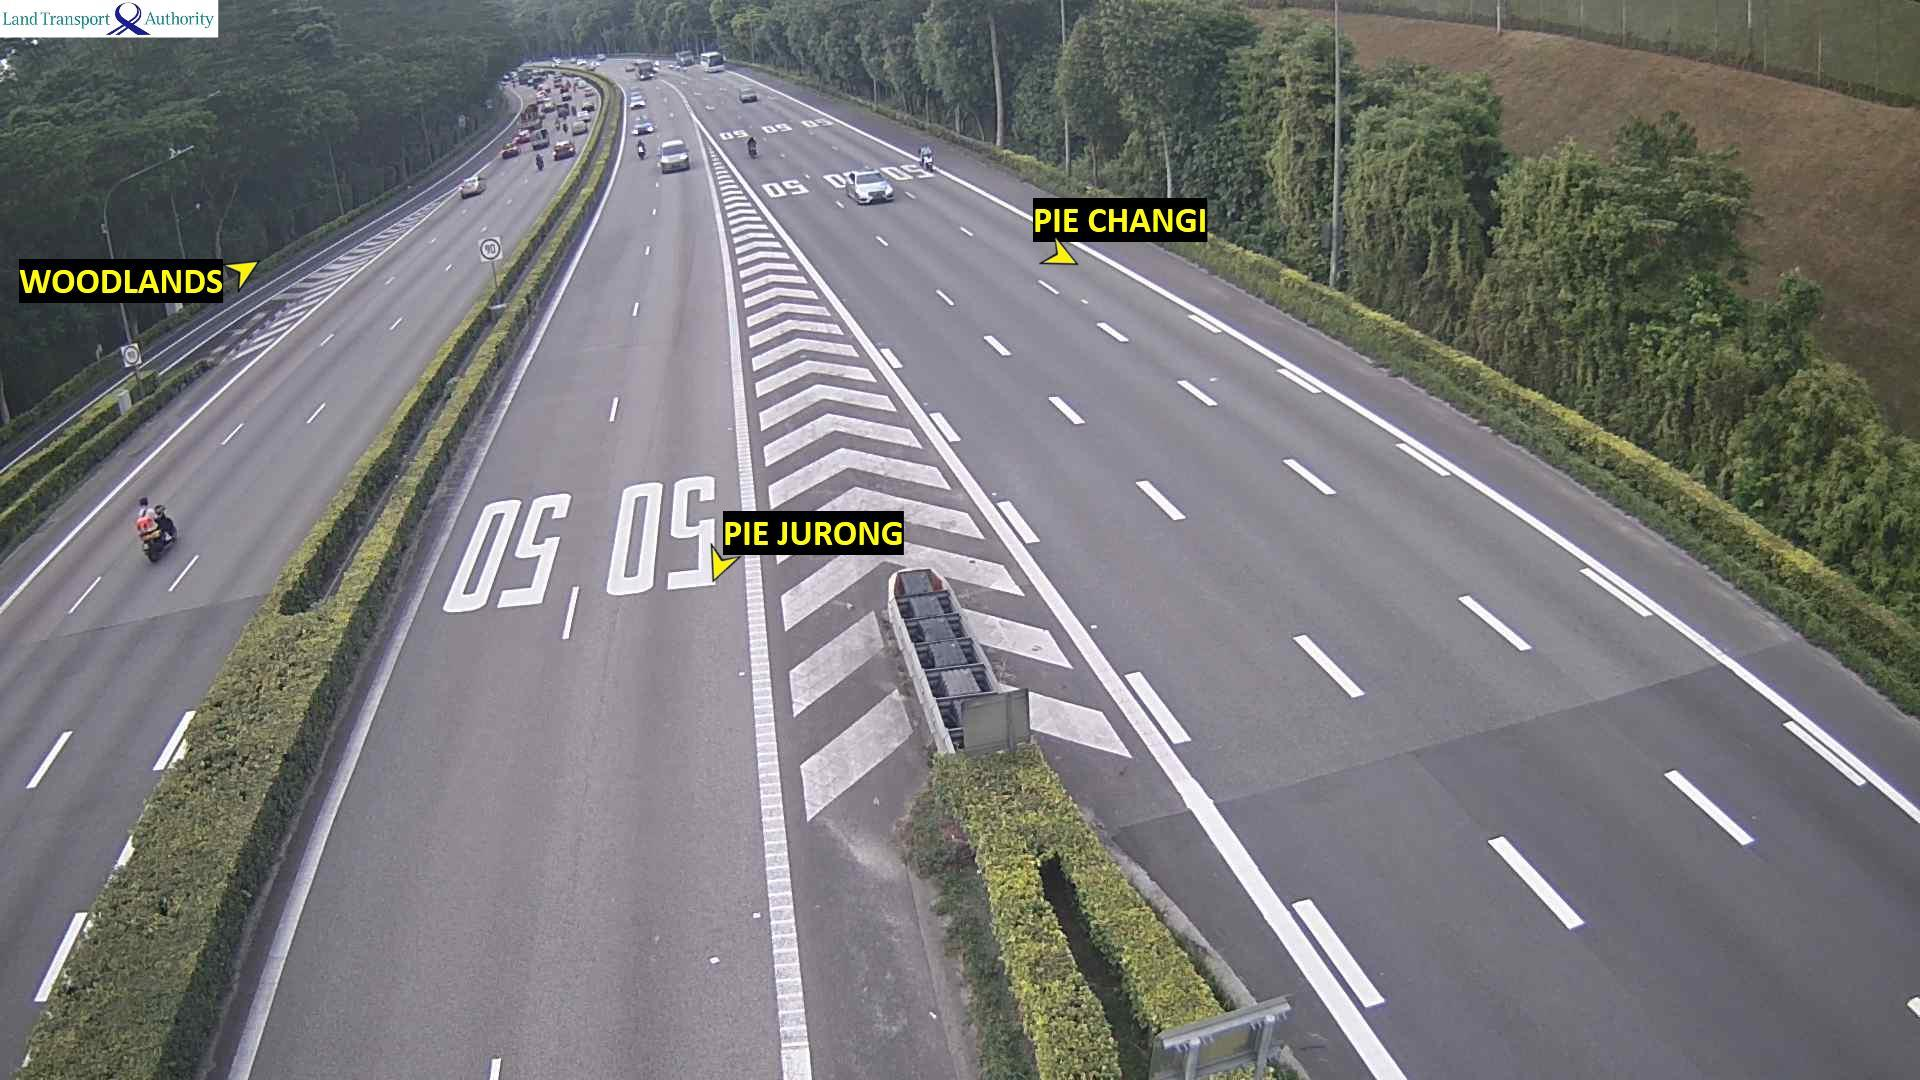incoming: (854, 174, 896, 204), (658, 143, 691, 173), (636, 59, 655, 83), (705, 51, 724, 72), (740, 88, 758, 105), (633, 120, 654, 134), (629, 100, 646, 112), (924, 156, 936, 171), (636, 144, 647, 160)
